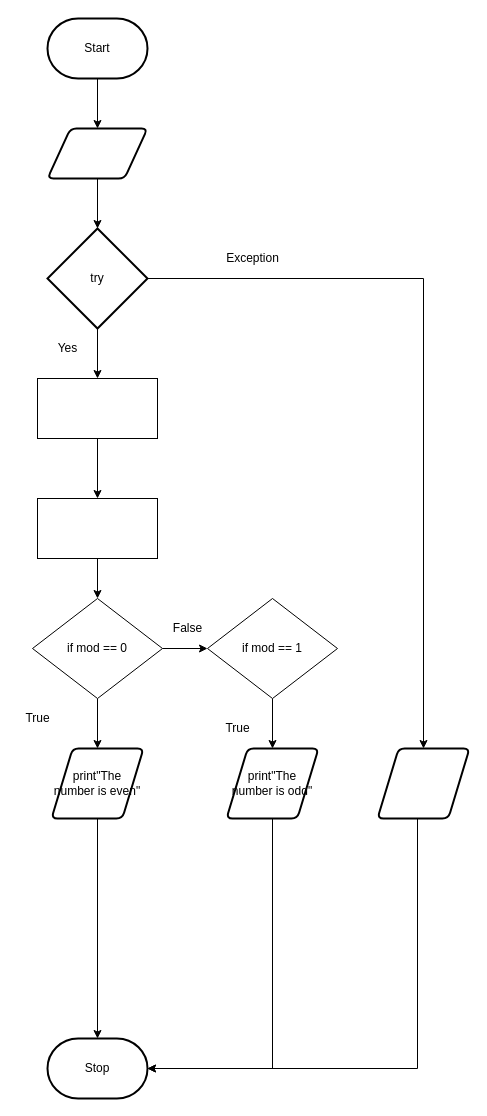
Image size: 487x1116. Some labels were removed from this diagram. The shapes that lost their labels are listed below. From the top down, each one's centre as x and y in pixels, then its label:
(x=97, y=153): Get number as string
(x=97, y=408): convert string to int
(x=97, y=528): mod = number % 2
(x=423, y=783): print"That is not an integer."
